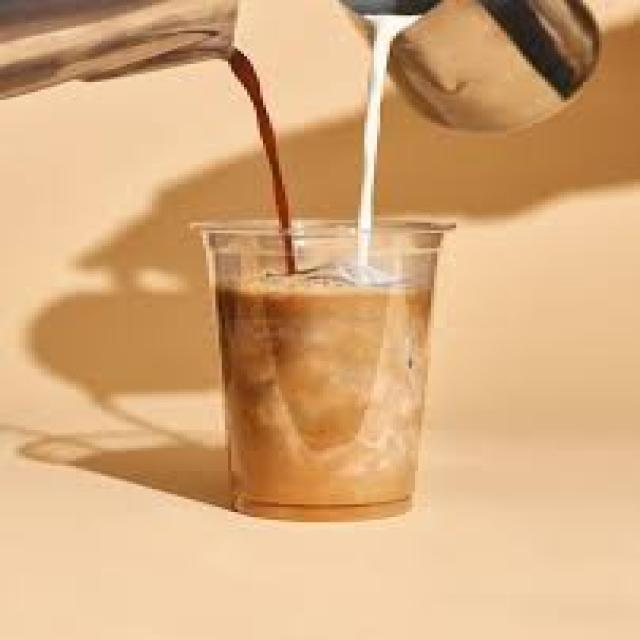bottle: (208, 222, 453, 519)
